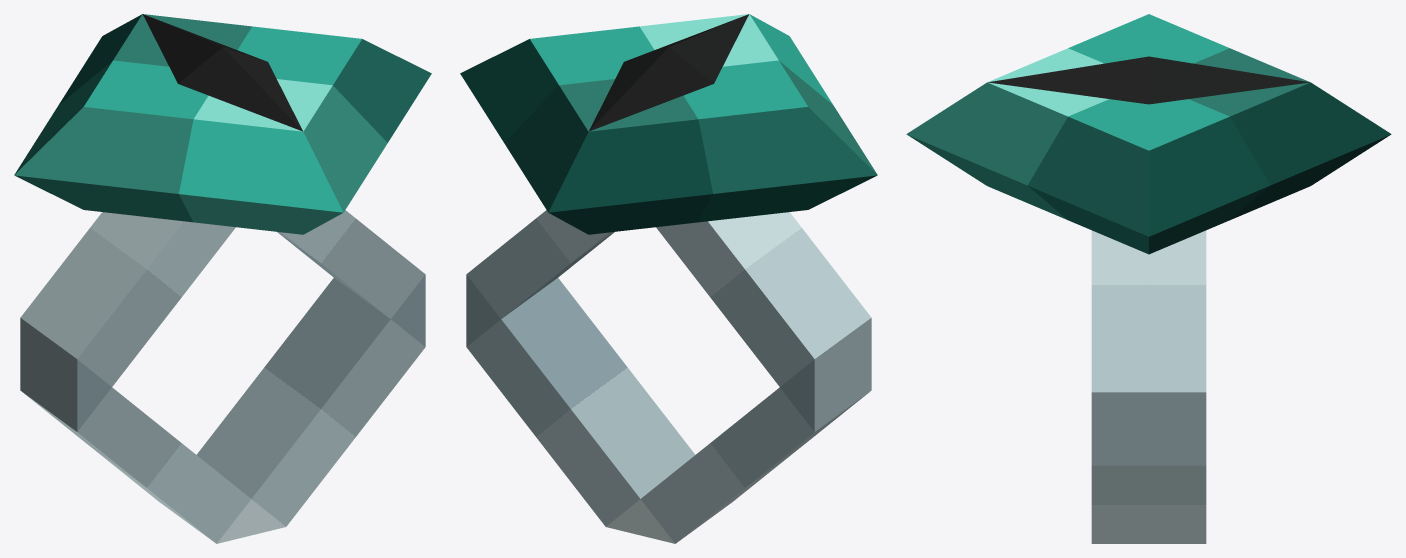
File: ring_enderman.obj
The picture shows the model from 3 angles, left to right: view 1: azimuth 30°, elevation 25°; view 2: azimuth 150°, elevation 25°; view 3: azimuth 270°, elevation 25°; orthographic projection.
Parts seen in each view (by area): view 1: RING_BASE_SILVER_Cube.036, RING_DECO_ENDERMAN_Cube.037; view 2: RING_BASE_SILVER_Cube.036, RING_DECO_ENDERMAN_Cube.037; view 3: RING_DECO_ENDERMAN_Cube.037, RING_BASE_SILVER_Cube.036.
Part boxes in pixels (bbox=[...]): RING_BASE_SILVER_Cube.036: bbox=[20, 210, 425, 543]; RING_DECO_ENDERMAN_Cube.037: bbox=[14, 14, 431, 234]; RING_BASE_SILVER_Cube.036: bbox=[466, 210, 871, 543]; RING_DECO_ENDERMAN_Cube.037: bbox=[460, 14, 877, 234]; RING_DECO_ENDERMAN_Cube.037: bbox=[906, 14, 1391, 254]; RING_BASE_SILVER_Cube.036: bbox=[1091, 230, 1206, 543].
Size of the model in its own units: 0.2652 by 0.2835 by 0.2652.
